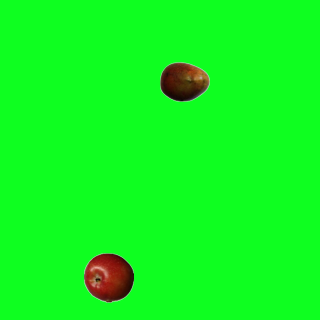Apple Braeburn: (83, 252, 133, 302)
Mango Red: (159, 56, 209, 106)
